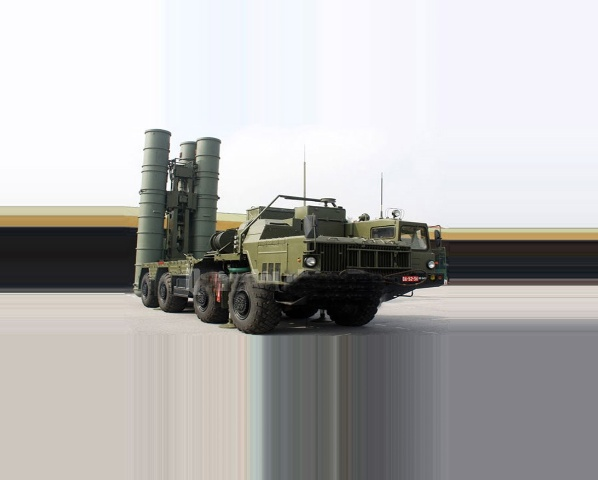plate: (400, 271, 421, 282)
